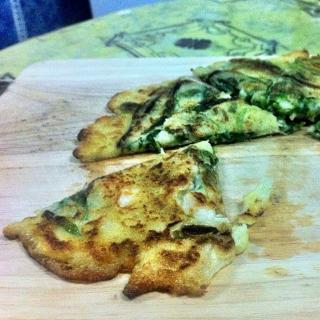Pizza: (5, 140, 250, 300), (74, 72, 287, 154), (186, 50, 320, 126)
